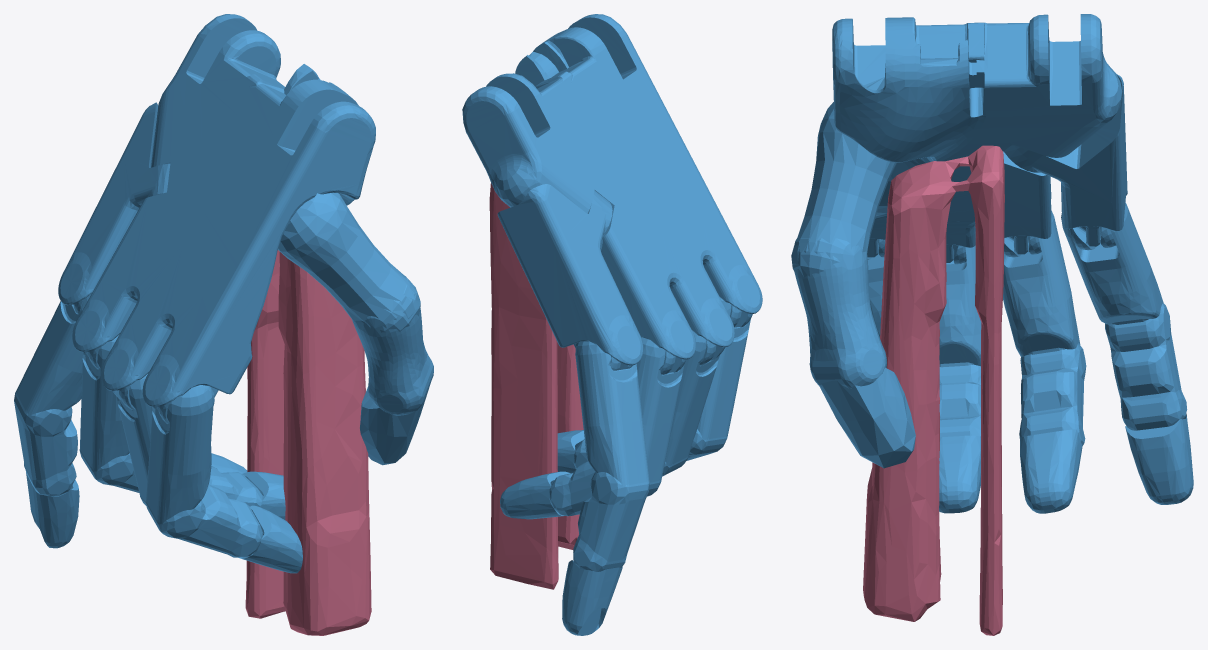
3 views of the same model, side by side, from view 1: azimuth 30°, elevation 25°; view 2: azimuth 150°, elevation 25°; view 3: azimuth 270°, elevation 25° (orthographic). The views are drawn at different scales.
Visible parts, largest first — view 1: 3; view 2: 3; view 3: 3.
Boxes of the visible parts, <box> form: 3: <box>14,14,433,635</box>; 3: <box>462,14,762,635</box>; 3: <box>791,14,1193,635</box>.
Bounding box in the file's own units: 0.1008 × 0.1936 × 0.1178.
